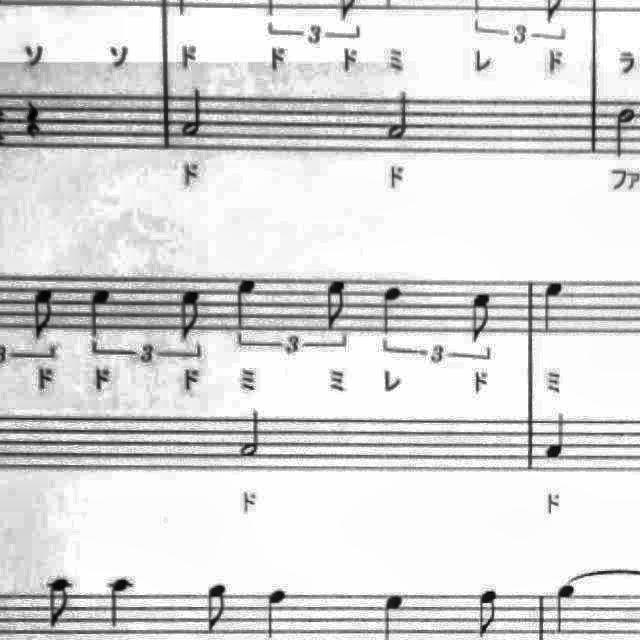Eighth-note: (24, 282, 62, 346), (40, 568, 78, 632), (199, 578, 237, 638), (172, 284, 208, 346), (318, 275, 354, 337), (466, 287, 500, 347), (471, 586, 507, 640)
Half-note: (380, 85, 418, 143), (178, 84, 214, 144), (607, 100, 640, 165), (232, 405, 268, 463), (639, 100, 640, 165)
Quarter-note: (100, 570, 140, 634), (228, 273, 264, 335), (83, 282, 119, 344), (536, 278, 572, 340), (374, 280, 410, 340), (549, 580, 585, 638), (538, 406, 572, 466), (258, 584, 294, 640), (376, 590, 412, 640)
Quarter-rest: (19, 94, 49, 146)
